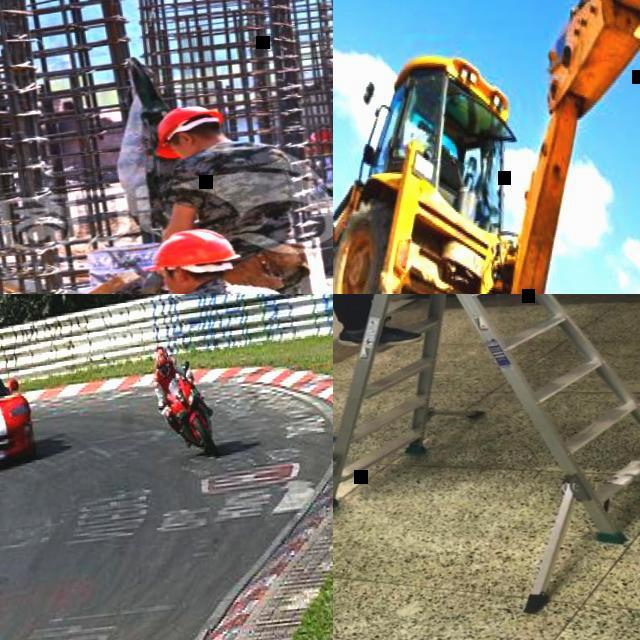helmet: (138, 222, 240, 280), (150, 102, 230, 164), (303, 122, 333, 145), (154, 346, 170, 376)
machinery: (333, 0, 640, 294)
no_mask: (172, 140, 201, 161), (166, 279, 186, 294)
no_vest: (177, 134, 315, 264), (316, 151, 333, 199), (154, 364, 178, 396)
person: (148, 92, 317, 294), (79, 221, 321, 294), (149, 343, 191, 446), (302, 123, 333, 209)
vehicle: (0, 352, 41, 484)
